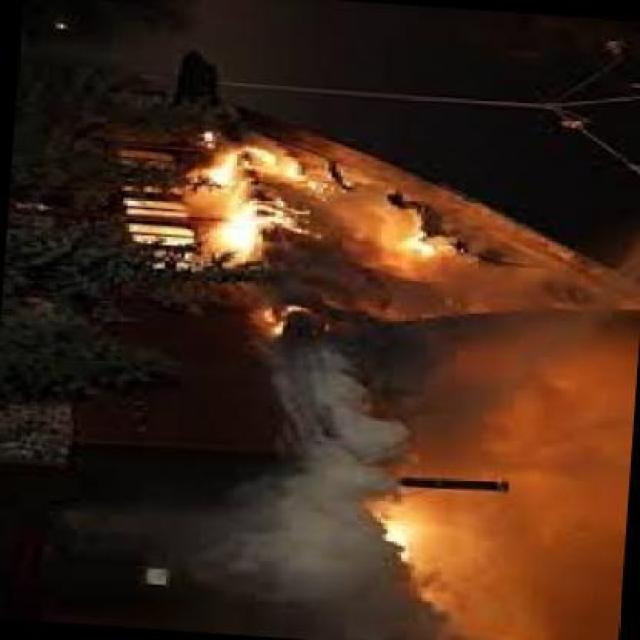Fire: (188, 134, 308, 268), (374, 508, 429, 566), (402, 222, 441, 258)
Smoke: (454, 295, 636, 640), (164, 342, 368, 630), (370, 342, 484, 468)
